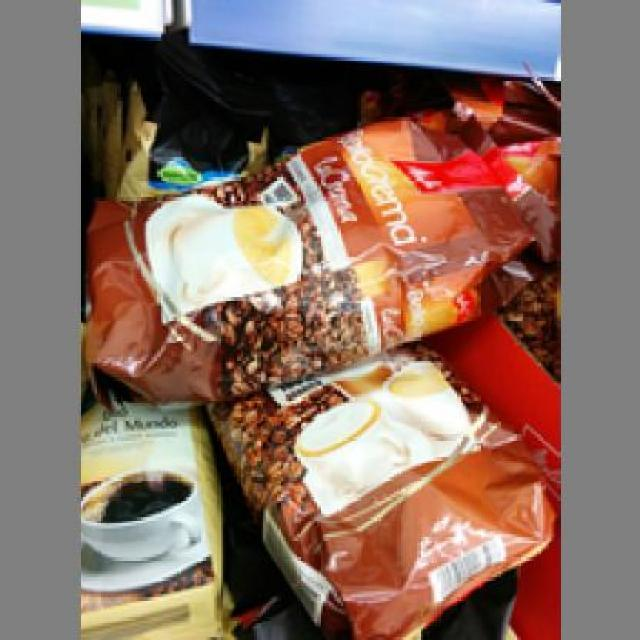Coffee: (88, 120, 504, 383), (200, 343, 549, 634), (76, 393, 230, 630)
